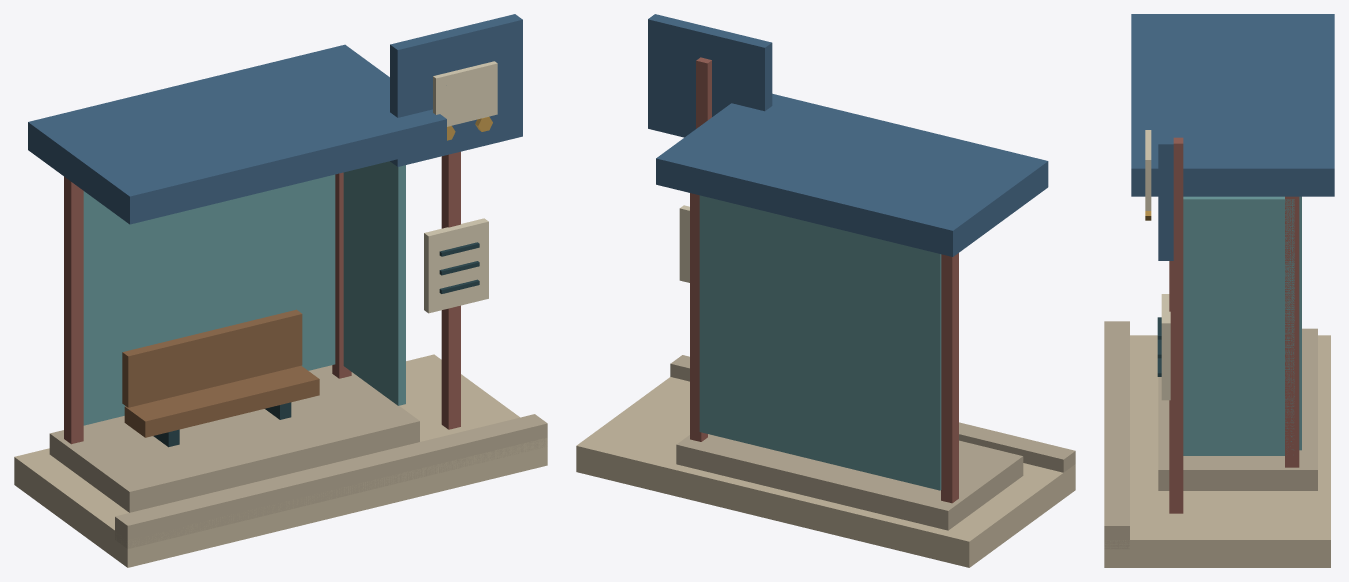
The model's file is bus-stop-seabreeze-complete.glb.
3 views of the same model, side by side, from view 1: azimuth 30°, elevation 25°; view 2: azimuth 150°, elevation 25°; view 3: azimuth 270°, elevation 25° (orthographic). The views are drawn at different scales.
Parts seen in each view (by area): view 1: bus-stop; view 2: bus-stop; view 3: bus-stop.
Boxes of the visible parts, x1,y1,x2,y2 form: bus-stop: [14, 14, 547, 567]; bus-stop: [576, 14, 1075, 567]; bus-stop: [1104, 14, 1334, 567].
Bounding box in the file's own units: 1.89 × 1.82 × 0.895.
